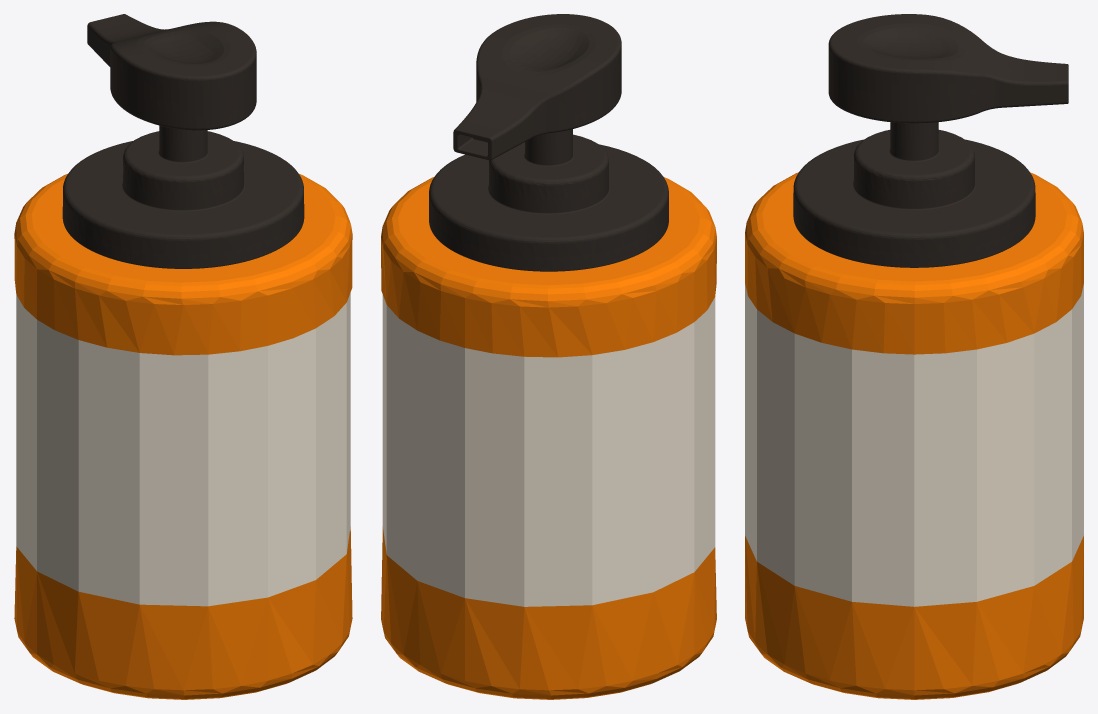
Rendered from Shampoo.fbx.
3 renders of one model, left to right at view 1: azimuth 30°, elevation 25°; view 2: azimuth 150°, elevation 25°; view 3: azimuth 270°, elevation 25°, orthographic.
Parts seen in each view (by area): view 1: 개체_2, 개체_3, 개체_4, 개체_5, 개체_1; view 2: 개체_2, 개체_3, 개체_4, 개체_5, 개체_1; view 3: 개체_2, 개체_3, 개체_4, 개체_5, 개체_1.
Part boxes in pixels (x1,y1,x2,y2): 개체_2: (16,293,350,606); 개체_3: (14,174,352,355); 개체_4: (14,527,352,699); 개체_5: (62,125,304,268); 개체_1: (87,14,256,130); 개체_2: (382,295,715,606); 개체_3: (381,177,716,357); 개체_4: (381,526,716,699); 개체_5: (429,129,668,271); 개체_1: (453,14,621,160); 개체_2: (745,284,1083,606); 개체_3: (745,172,1083,354); 개체_4: (745,536,1083,699); 개체_5: (793,122,1035,267); 개체_1: (828,14,1068,123).
Bounding box in the file's own units: 280 × 540 × 280.
